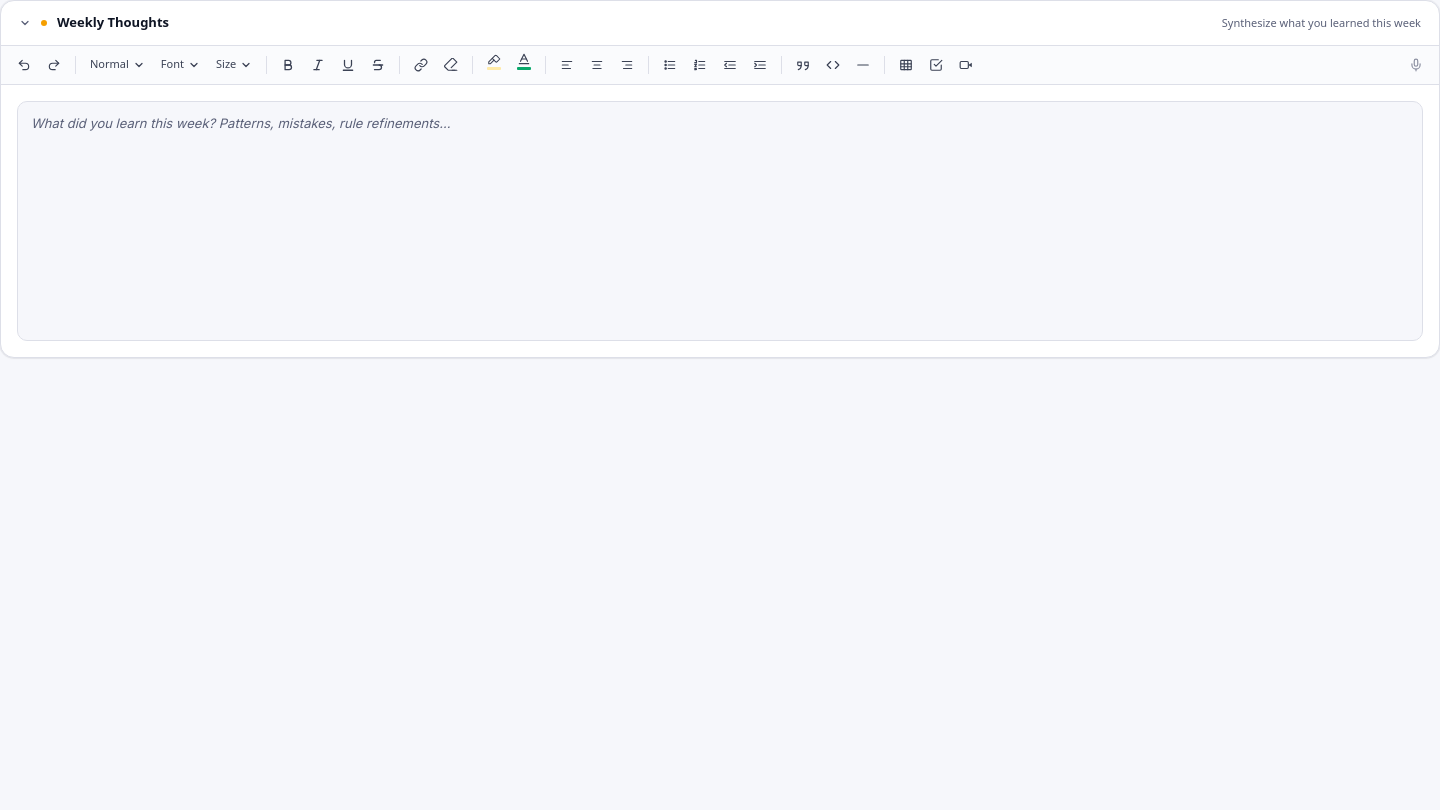
Test: WeeklyThoughts — Phase 3.5 expansion › Insert link button opens popover (no window.prompt)
Click the button named "Insert link": [421, 64] box [408,52,434,78]
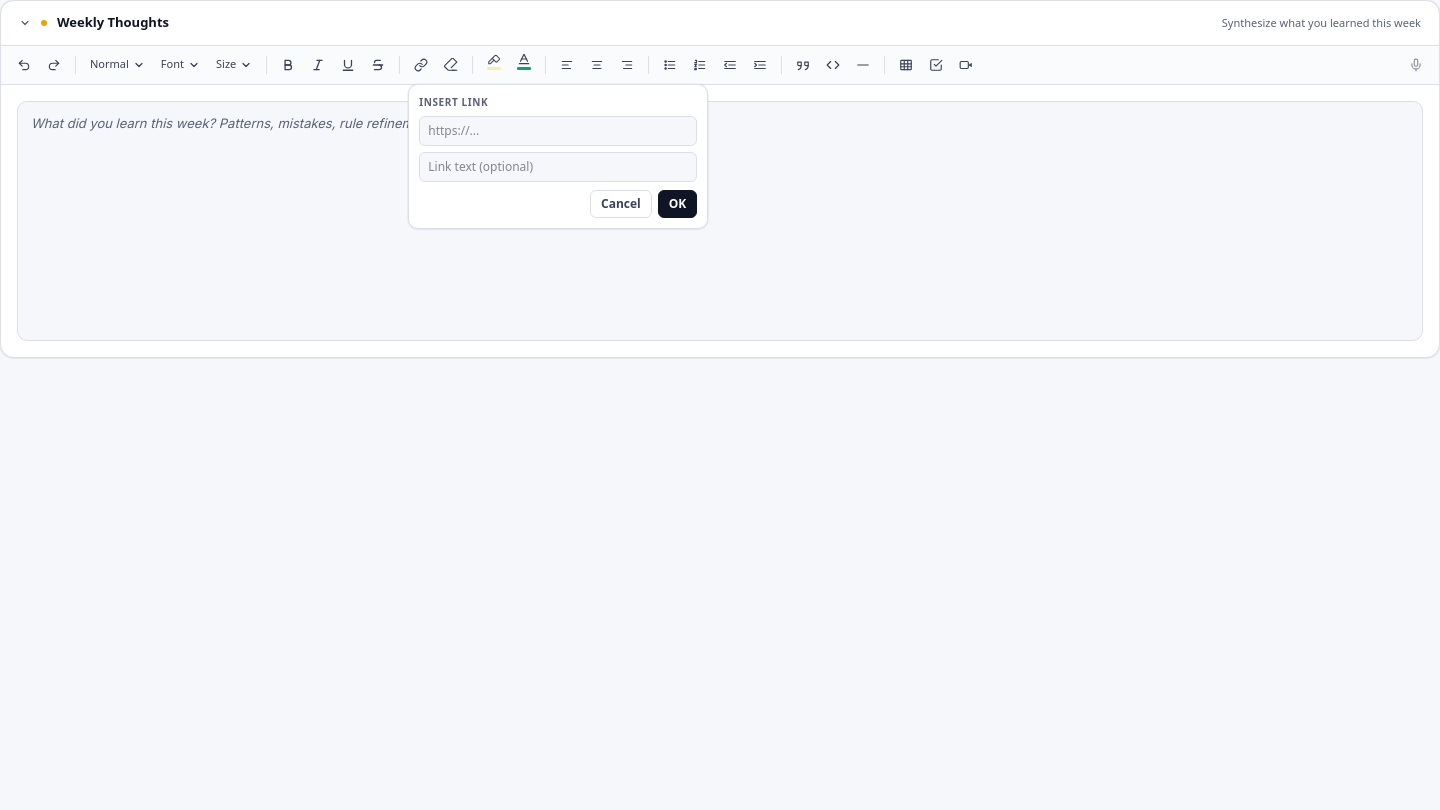
expect the dialog "Insert link Cancel OK" is shown: met, box [408,84,708,228]
